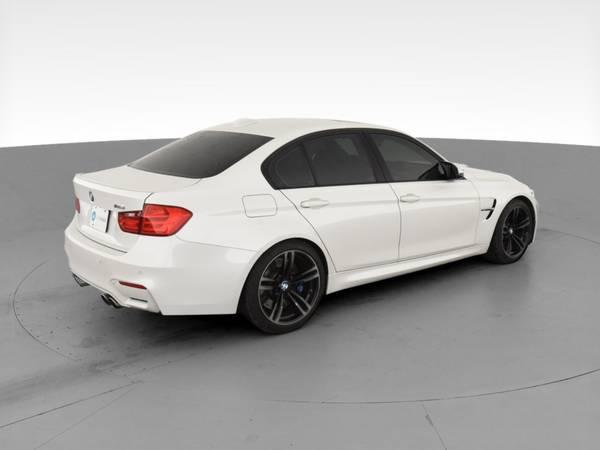Front_Fender: (465, 174, 538, 257)
Front_Right_Door: (389, 181, 480, 272)
Front_Right_Window: (365, 130, 470, 185)
Rear_Bumper: (62, 212, 261, 313)
Rear_Fender: (145, 173, 310, 249)
Rear_Right_Door: (279, 187, 401, 296)
Rear_Right_Window: (266, 132, 391, 195)
Rear_Windshield: (126, 130, 271, 177)
Right_Taillight: (119, 200, 193, 236)
Roof: (205, 116, 465, 189)
Tailgate: (71, 164, 196, 247)
Wheel: (245, 241, 326, 337), (494, 197, 534, 259)
